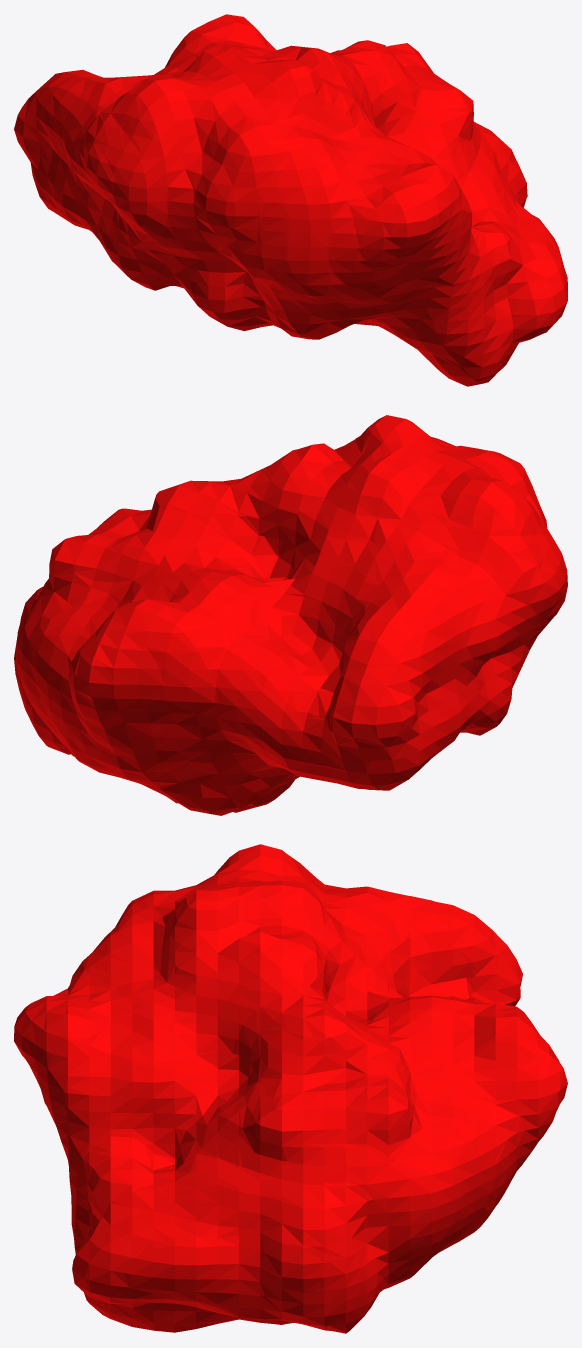
The model's file is uspE_coarse.dae.
3 renders of one model, top to bottom at view 1: azimuth 30°, elevation 25°; view 2: azimuth 150°, elevation 25°; view 3: azimuth 270°, elevation 25°, orthographic. The views are drawn at different scales.
Parts seen in each view (by area): view 1: uspE; view 2: uspE; view 3: uspE.
Boxes of the visible parts, x1,y1,x2,y2 form: uspE: (14,14,567,386); uspE: (14,415,567,815); uspE: (14,844,567,1333).
Size of the model in its own units: 79.2 by 55.53 by 79.33.
